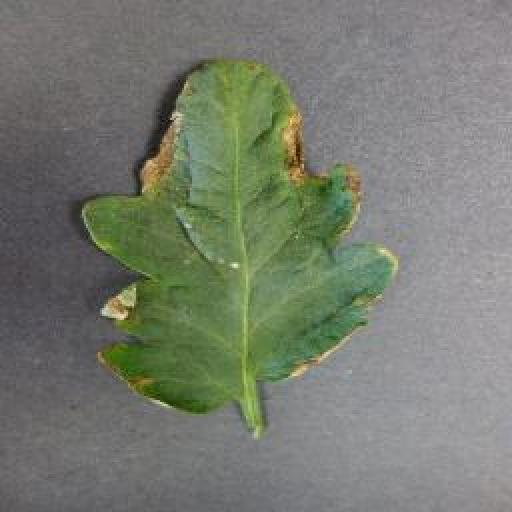Bacterial Spot: (79, 56, 400, 421)
